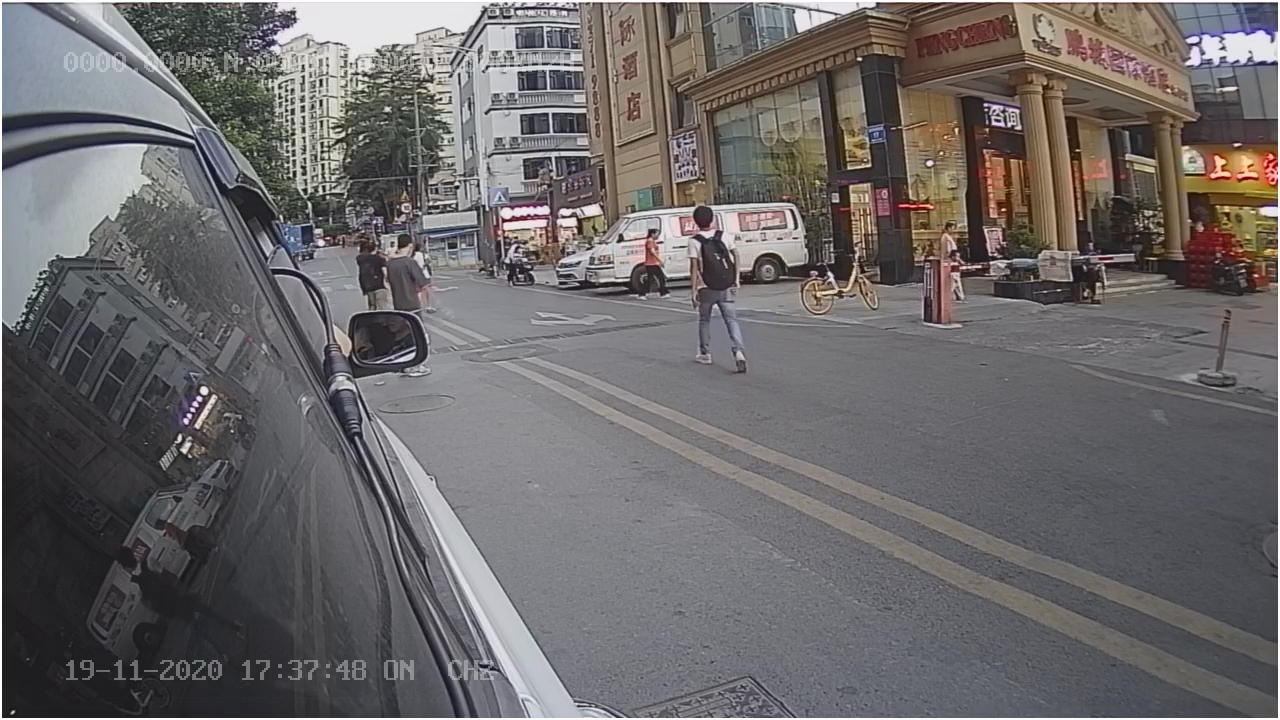person: (680, 201, 750, 365)
